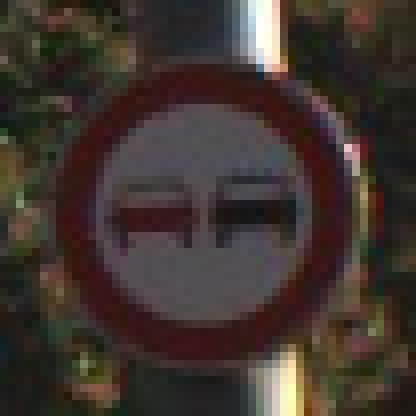No Overtaking: (49, 49, 377, 377)
